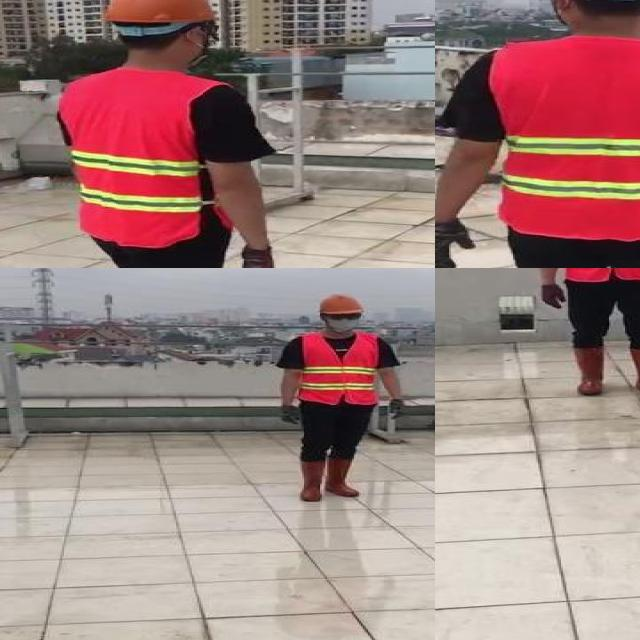boots: (570, 343, 609, 396), (323, 452, 362, 498), (298, 458, 330, 502), (628, 345, 640, 397)
face_mask: (324, 311, 360, 332)
glasses: (327, 311, 365, 322)
hand_glove: (435, 220, 472, 268), (540, 280, 566, 310), (238, 247, 272, 268), (278, 403, 300, 425), (388, 398, 403, 419)
head_helmet: (100, 0, 216, 23), (316, 293, 366, 315)
person: (42, 0, 282, 268), (435, 0, 640, 268), (268, 288, 411, 504), (529, 268, 640, 398)
vest: (491, 40, 640, 242), (61, 70, 228, 247), (295, 333, 381, 404)
